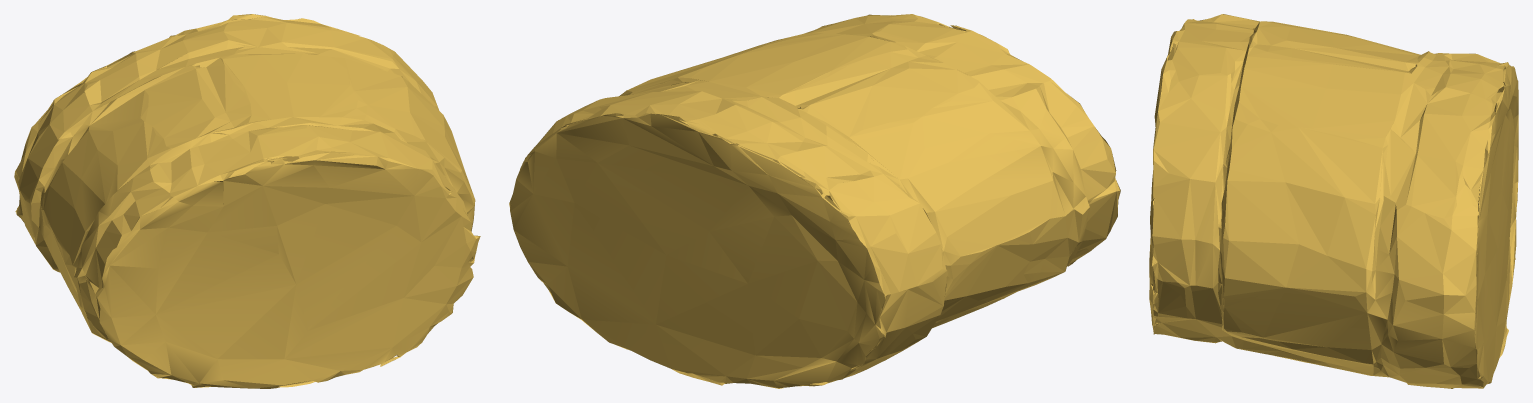
File: ENV_06_HAY_game.glb
3 renders of one model, left to right at view 1: azimuth 30°, elevation 25°; view 2: azimuth 150°, elevation 25°; view 3: azimuth 270°, elevation 25°, orthographic. The views are drawn at different scales.
Parts seen in each view (by area): view 1: ENV_06_HAY; view 2: ENV_06_HAY; view 3: ENV_06_HAY.
Boxes of the visible parts, left/top/right/bottom form: ENV_06_HAY: left=14, top=14, right=480, bottom=388; ENV_06_HAY: left=509, top=14, right=1120, bottom=388; ENV_06_HAY: left=1149, top=14, right=1518, bottom=388.
Size of the model in its own units: 1.7 by 0.9 by 1.15.
